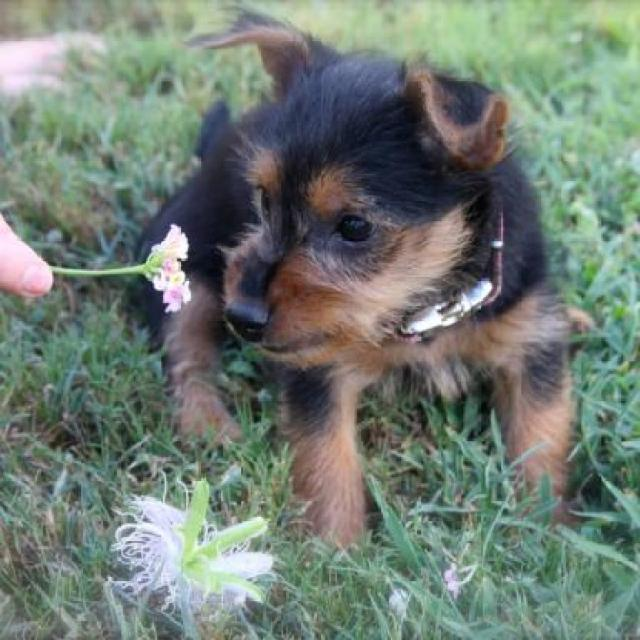animals: (170, 32, 558, 462)
